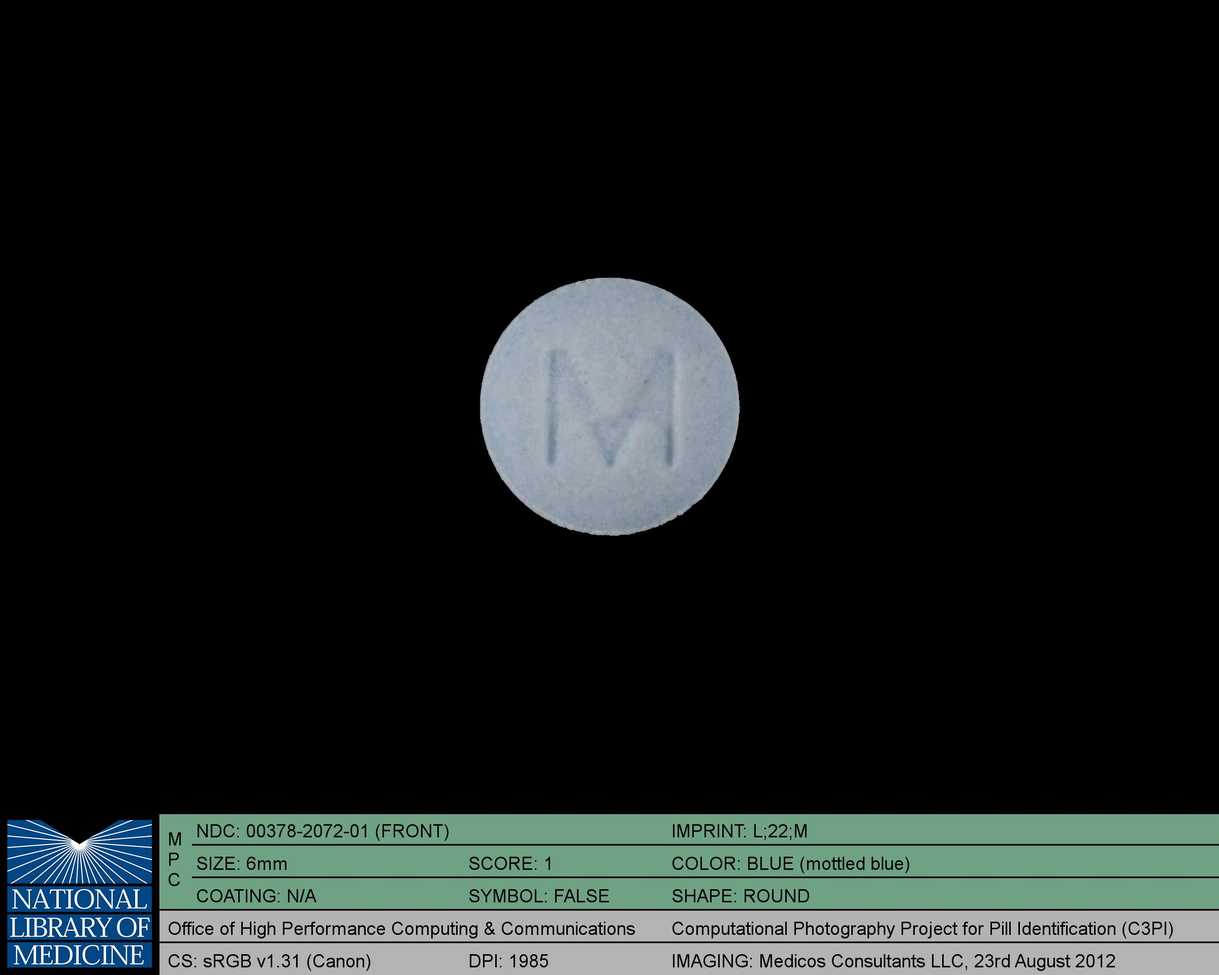Pill: (469, 267, 755, 547)
